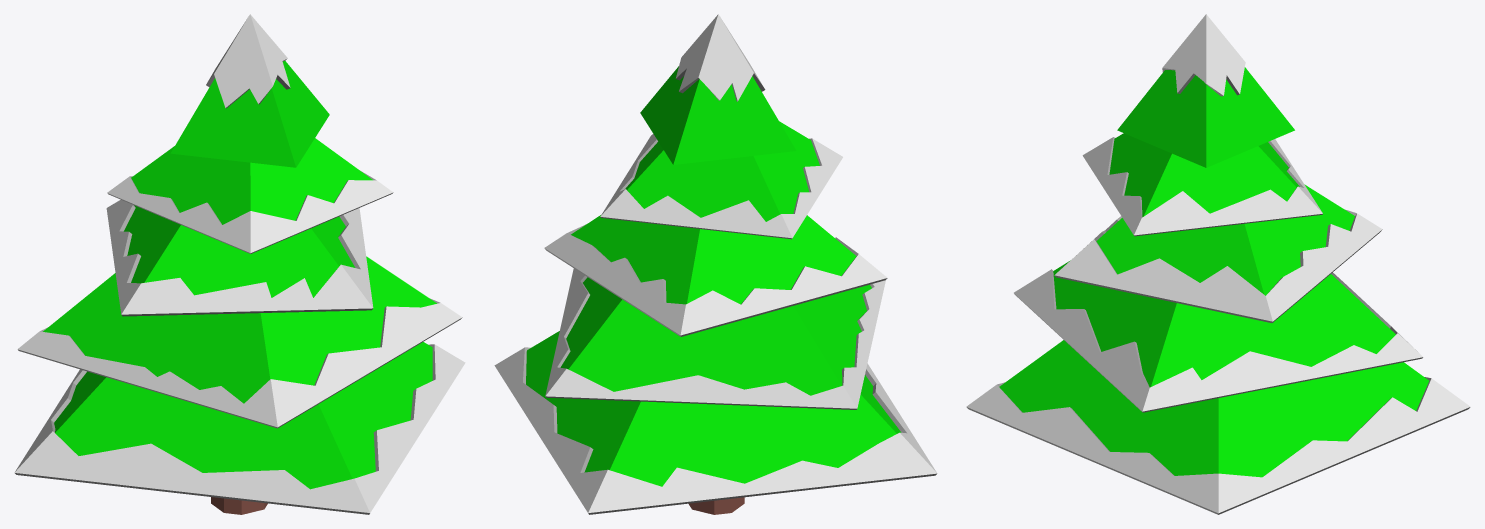
The model's file is Christmas Tree.fbx.
The picture shows the model from 3 angles, left to right: view 1: azimuth 30°, elevation 25°; view 2: azimuth 150°, elevation 25°; view 3: azimuth 270°, elevation 25°; orthographic projection. The views are drawn at different scales.
Parts seen in each view (by area): view 1: christmas_tree_pPyramid1, christmas_tree_pPyramid2, christmas_tree_pPyramid3, christmas_tree_pPyramid4, christmas_tree_pPyramid5, christmas_tree_pCube1; view 2: christmas_tree_pPyramid1, christmas_tree_pPyramid2, christmas_tree_pPyramid3, christmas_tree_pPyramid4, christmas_tree_pPyramid5, christmas_tree_pCube1; view 3: christmas_tree_pPyramid1, christmas_tree_pPyramid2, christmas_tree_pPyramid3, christmas_tree_pPyramid4, christmas_tree_pPyramid5.
Part boxes in pixels (x1,y1,x2,y2): christmas_tree_pPyramid1: [14, 342, 465, 514]; christmas_tree_pPyramid2: [17, 256, 462, 428]; christmas_tree_pPyramid3: [106, 199, 373, 316]; christmas_tree_pPyramid4: [107, 138, 393, 253]; christmas_tree_pPyramid5: [170, 14, 329, 167]; christmas_tree_pCube1: [211, 497, 267, 514]; christmas_tree_pPyramid1: [494, 331, 937, 514]; christmas_tree_pPyramid2: [545, 268, 885, 409]; christmas_tree_pPyramid3: [544, 215, 887, 336]; christmas_tree_pPyramid4: [600, 121, 842, 239]; christmas_tree_pPyramid5: [640, 14, 796, 164]; christmas_tree_pCube1: [688, 497, 744, 514]; christmas_tree_pPyramid1: [966, 340, 1470, 514]; christmas_tree_pPyramid2: [1014, 260, 1423, 412]; christmas_tree_pPyramid3: [1054, 184, 1382, 322]; christmas_tree_pPyramid4: [1082, 133, 1322, 236]; christmas_tree_pPyramid5: [1117, 14, 1294, 167].
Size of the model in its own units: 1.43 by 1.49 by 1.43.
